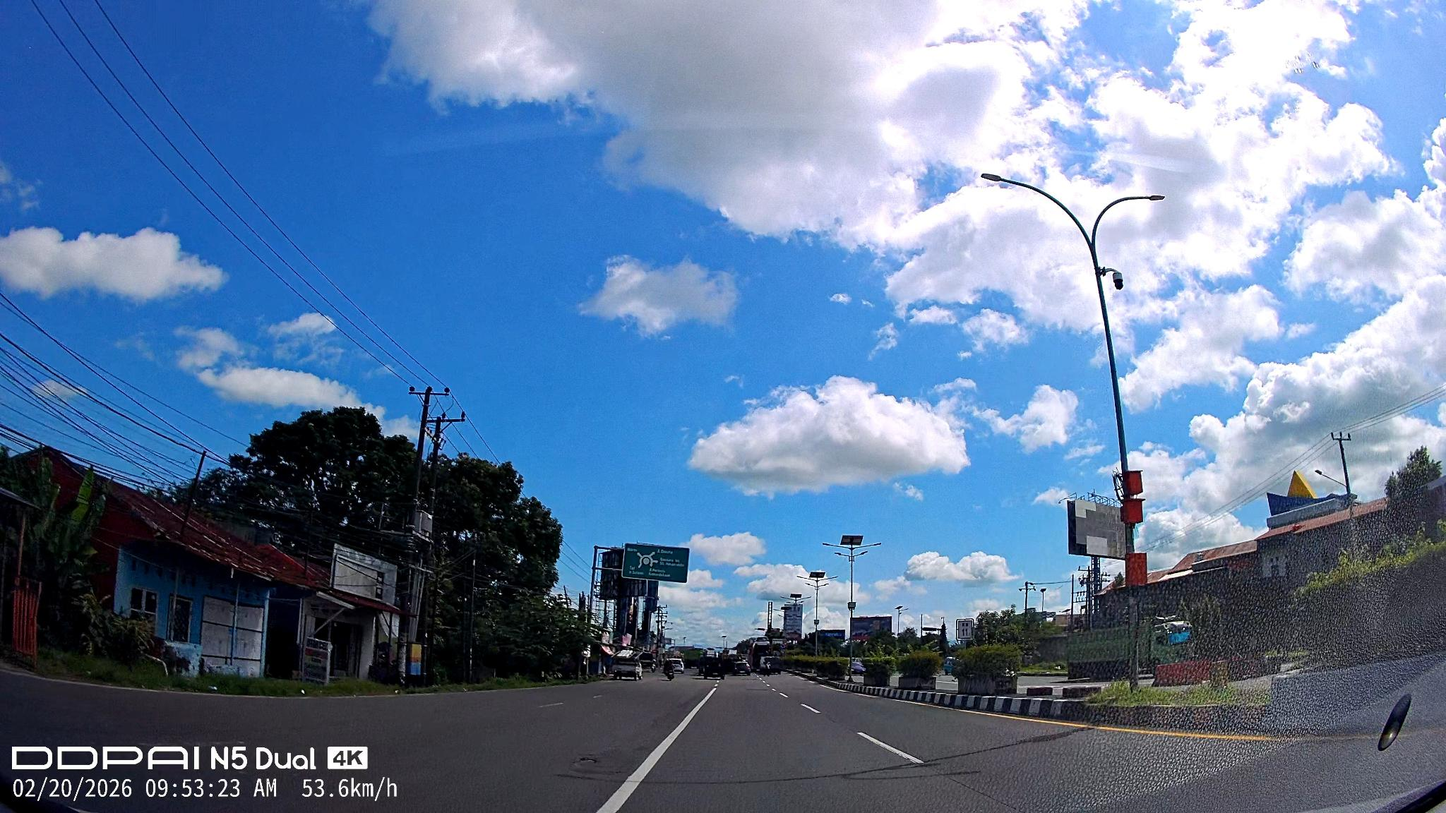rambu_teks: (621, 542, 690, 584)
